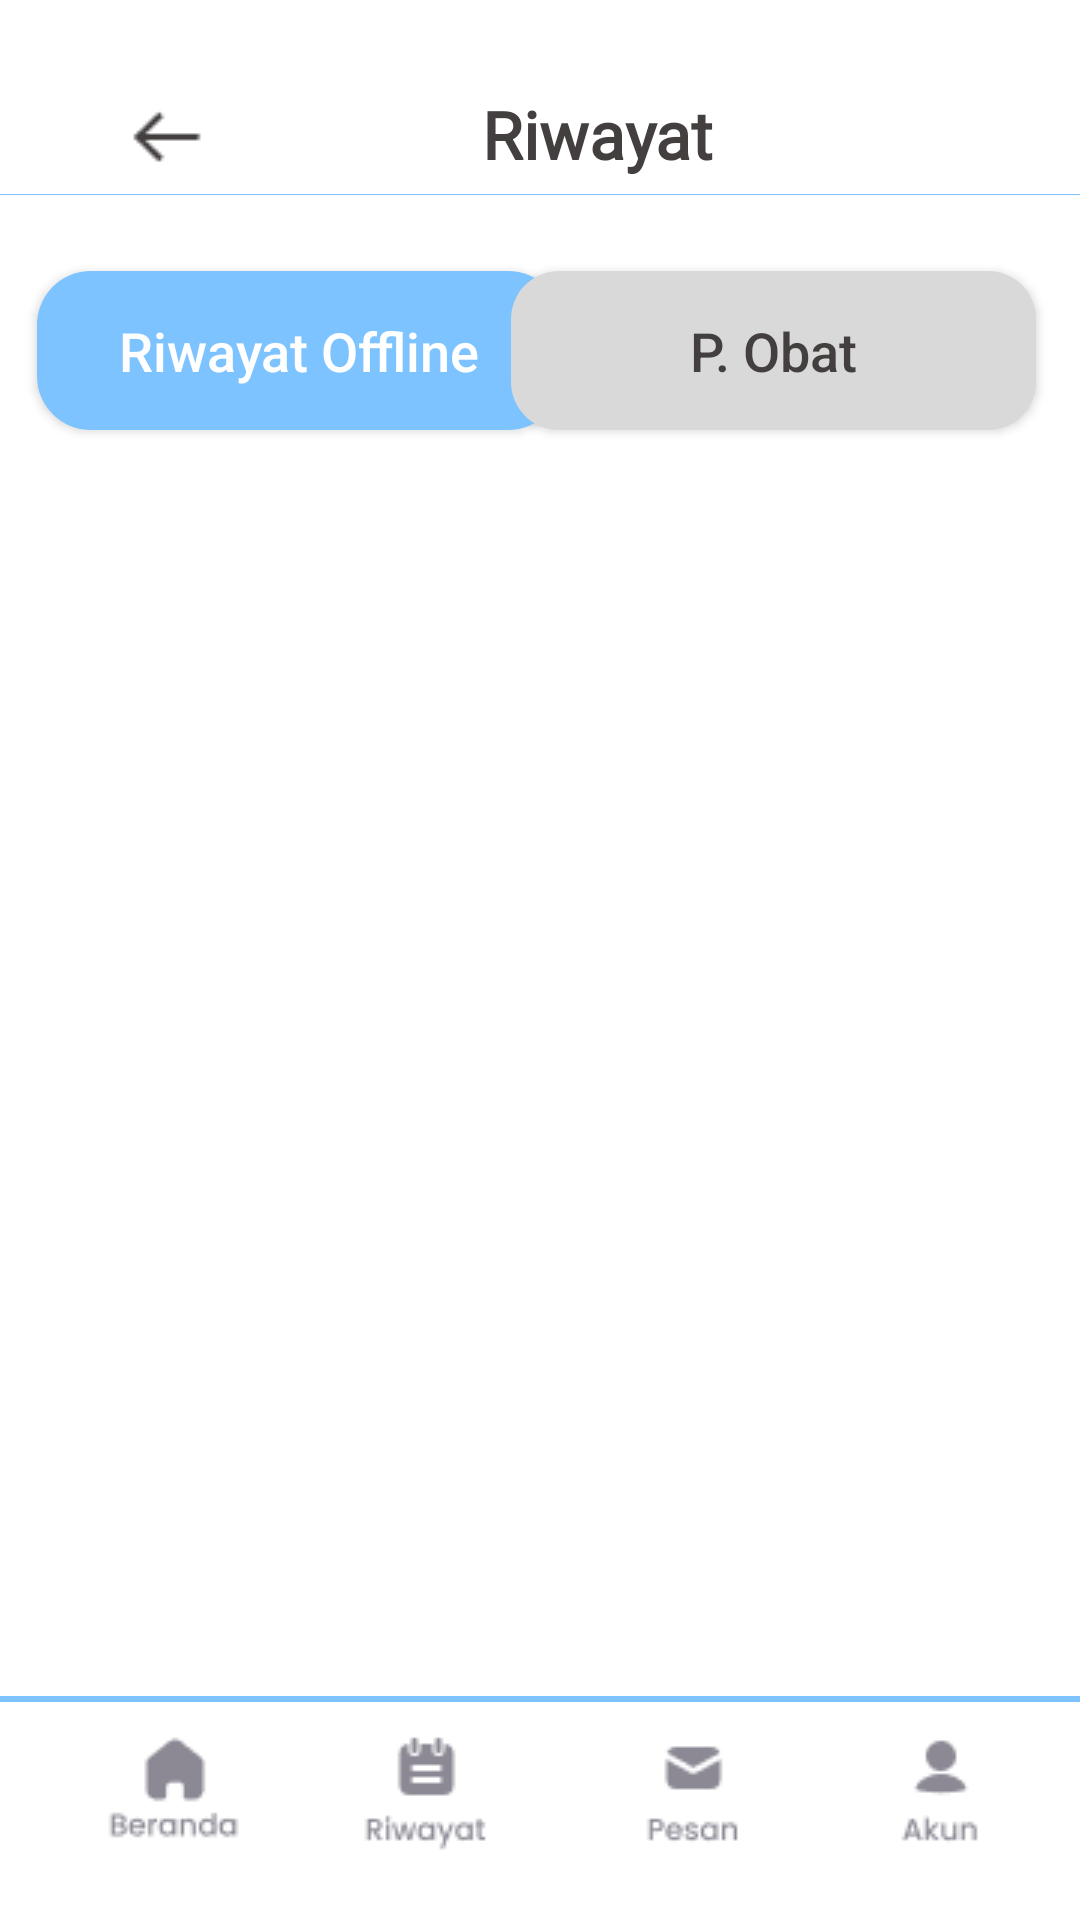

Icon click points for this 1080px×1920px phone screenshot, format (x,y):
arrowleft: (167,137)
